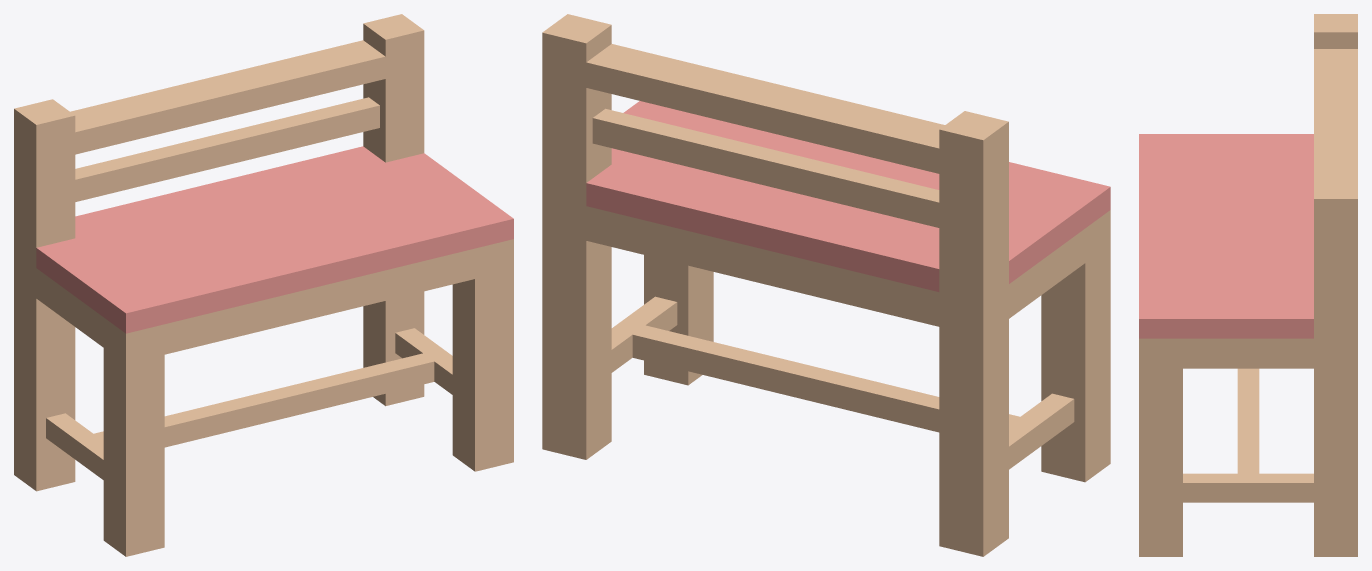
The model's file is benchCushion_low_back.glb.
The picture shows the model from 3 angles, left to right: view 1: azimuth 30°, elevation 25°; view 2: azimuth 150°, elevation 25°; view 3: azimuth 270°, elevation 25°; orthographic projection. The views are drawn at different scales.
Visible parts, largest first — view 1: benchCushion(Clone); view 2: benchCushion(Clone); view 3: benchCushion(Clone).
Part boxes in pixels (x1,y1,x2,y2): benchCushion(Clone): (14, 14, 513, 556); benchCushion(Clone): (542, 14, 1110, 556); benchCushion(Clone): (1139, 14, 1357, 556).
Size of the model in its own units: 0.4 by 0.361 by 0.2.
